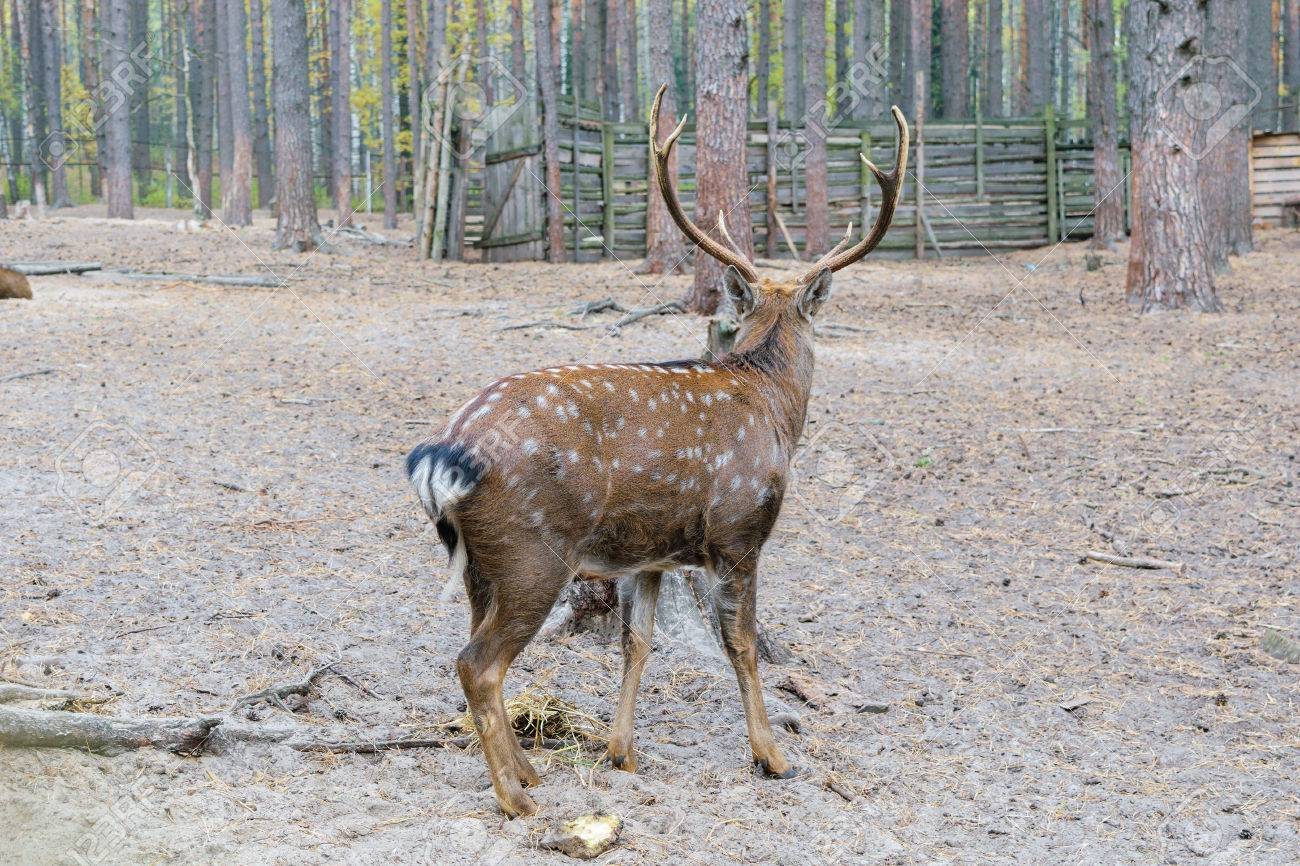Deer: (390, 84, 923, 827)
